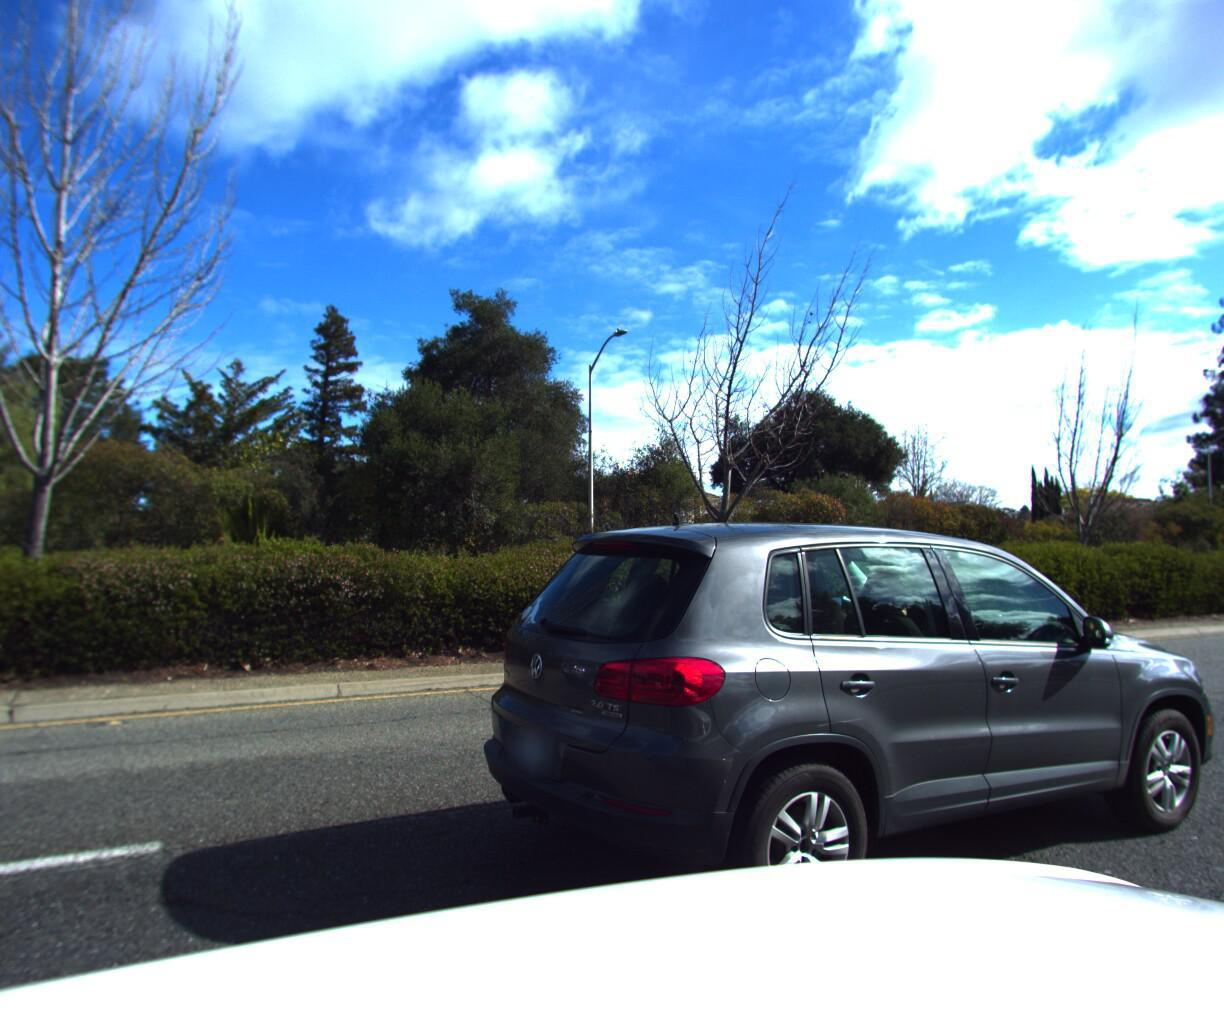car: (461, 503, 1224, 985)
